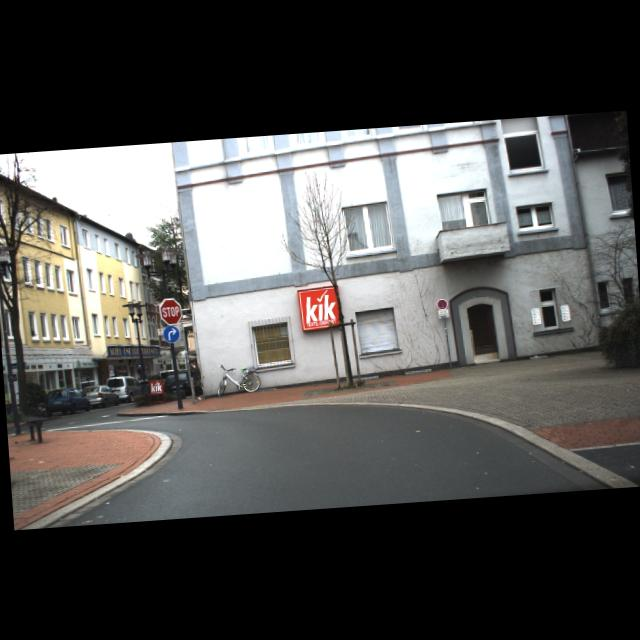mandatory: (162, 324, 180, 342)
other: (158, 296, 182, 324)
